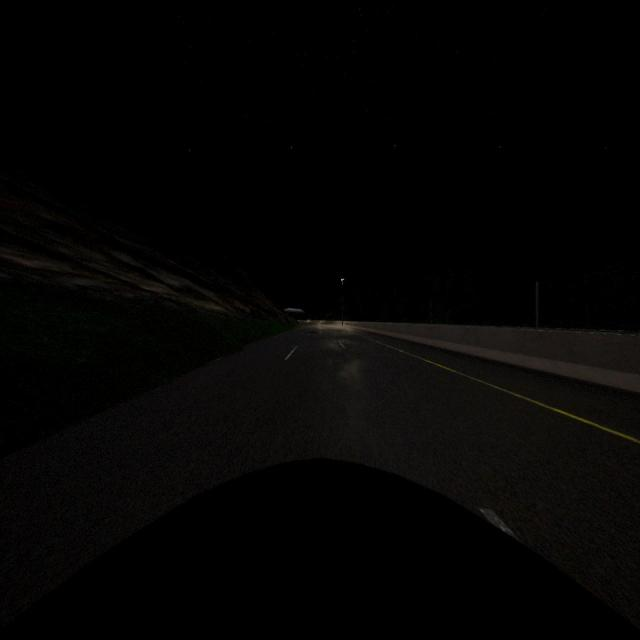Vehicle: (1, 460, 640, 640)
